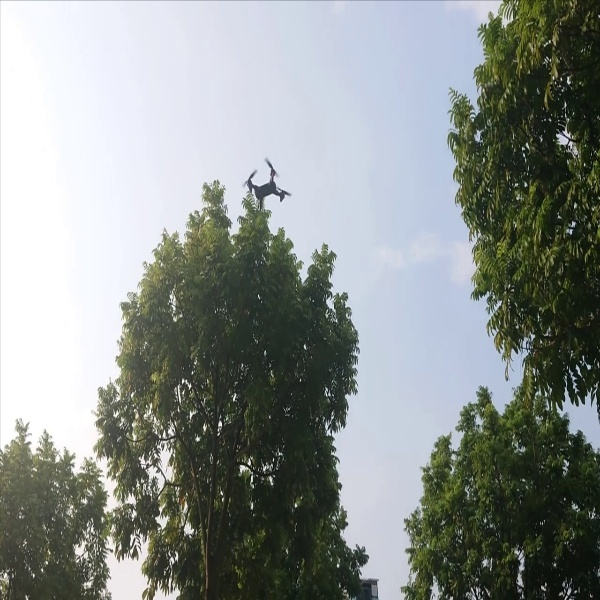drone: (240, 153, 295, 213)
